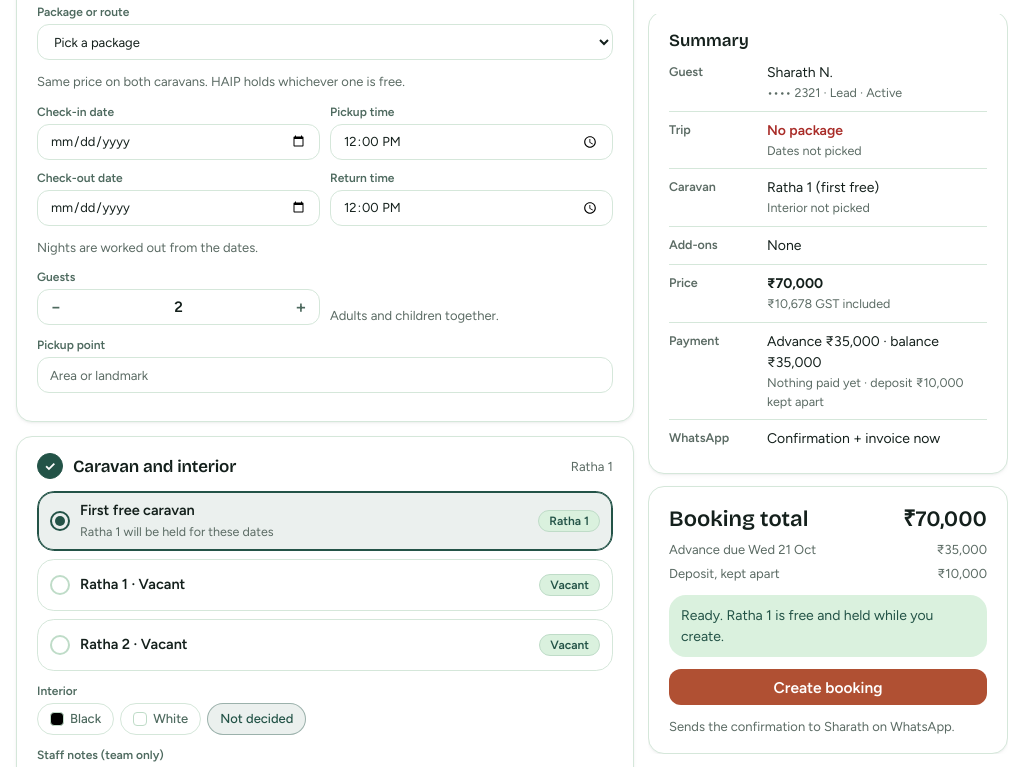
Test: refusals are always shown › an error with no message still says what happened
(page scrolled)
Step 1. Click the button "Create booking" → point(828, 687), box [669,669,987,705]
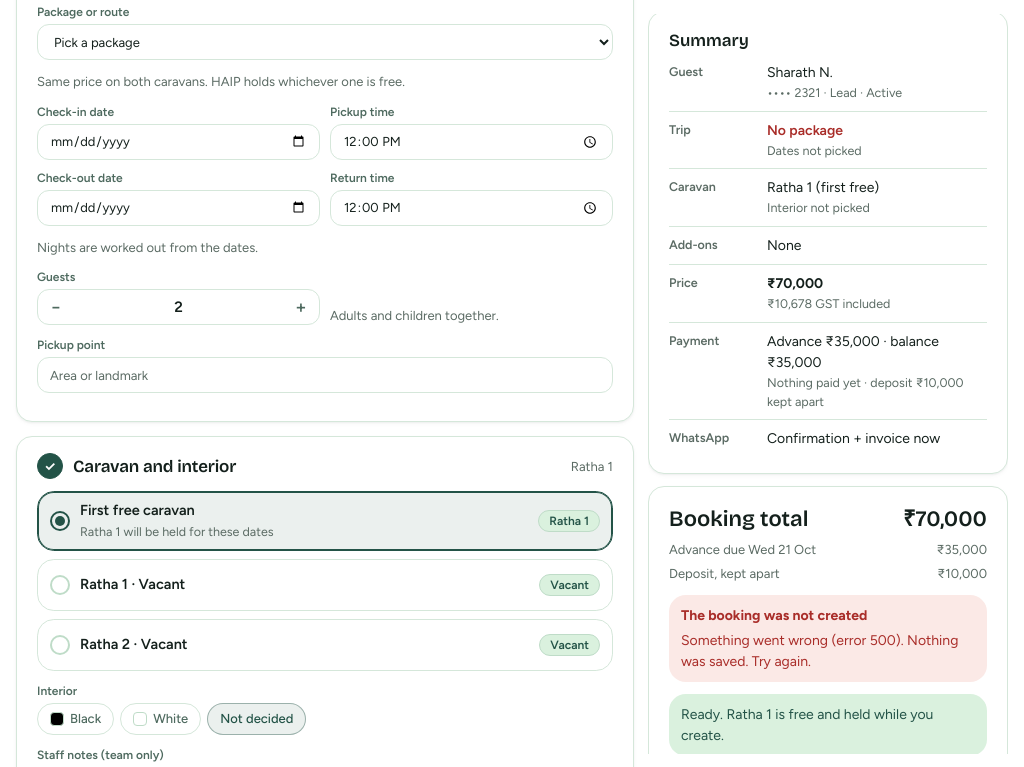
Expected: the message with test id "create-error" shows "Something went wrong (error 500). Nothing was saved.", [681,632,958,670]
